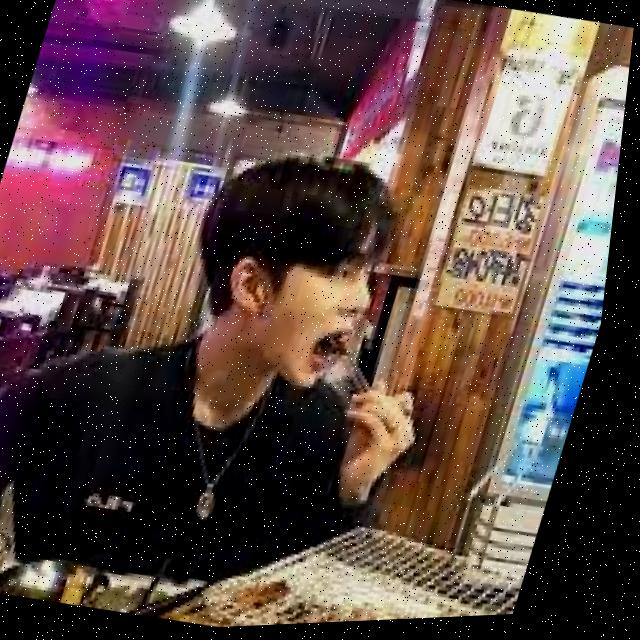eating-person: (0, 70, 540, 640)
